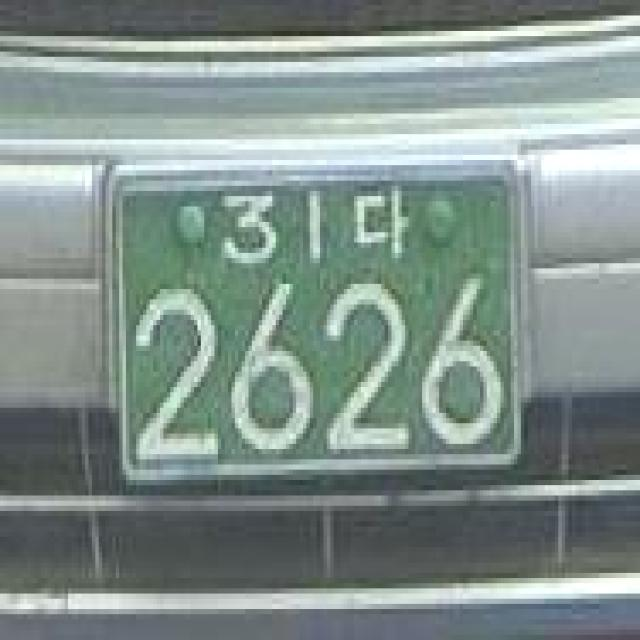illegal_plate: (91, 145, 546, 510)
